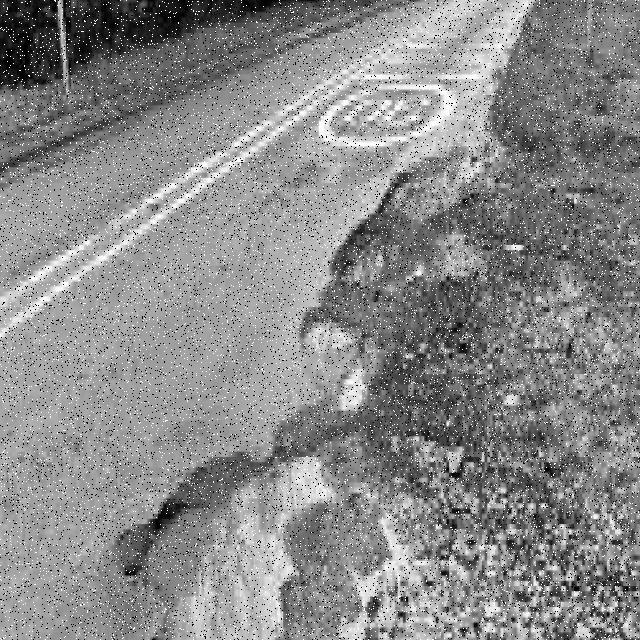pothole: (115, 452, 343, 640)
